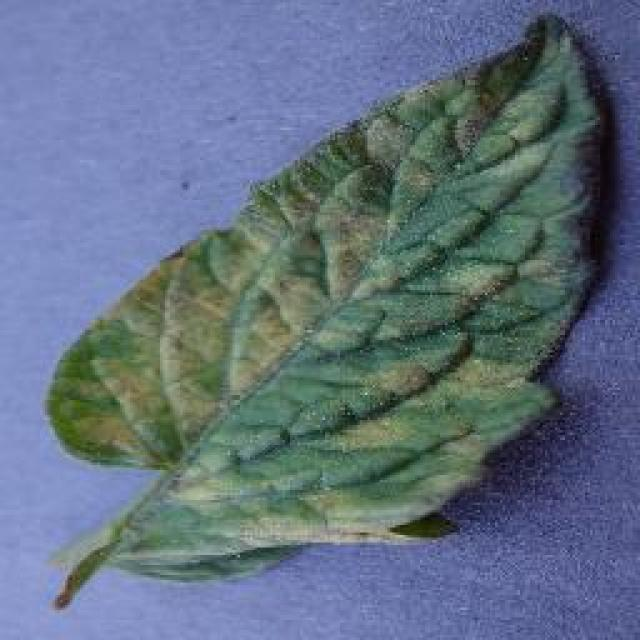Tomato mold leaf: (46, 6, 614, 582)
